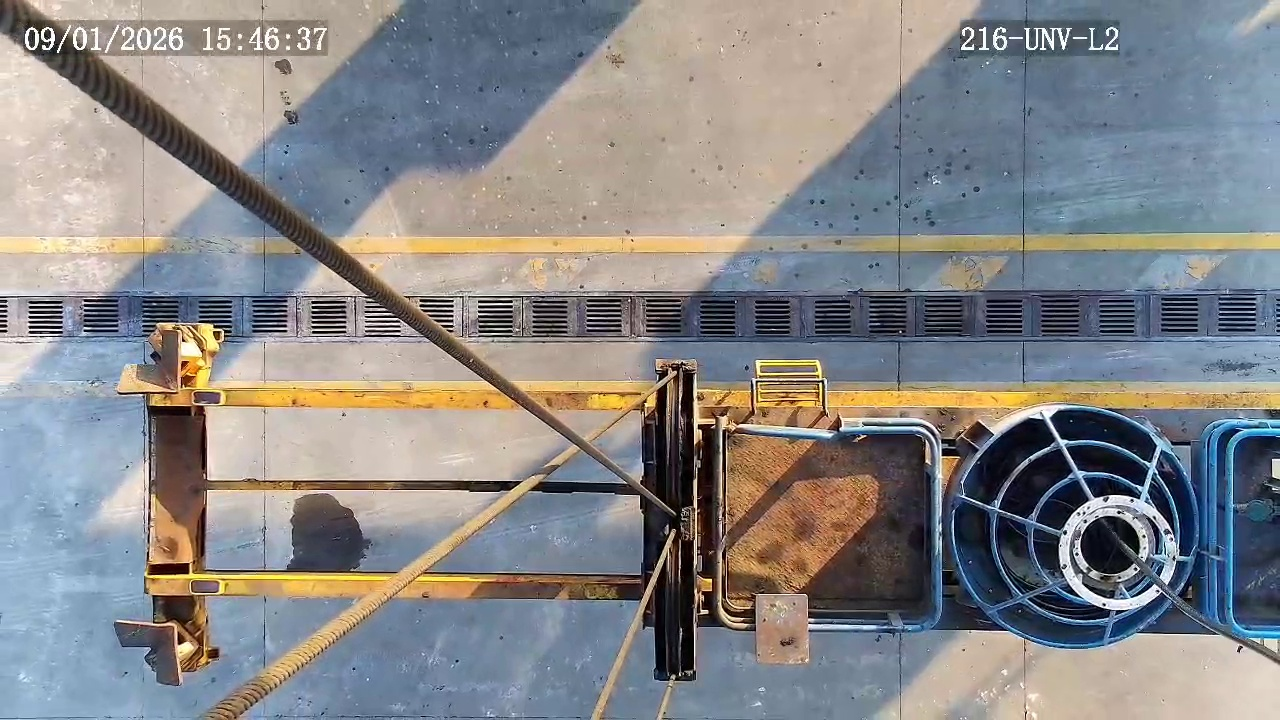left: (1057, 495, 1177, 610)
